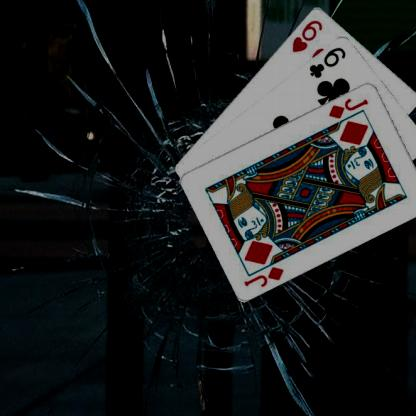6C: (306, 44, 348, 79)
6H: (289, 17, 324, 53)
JD: (326, 95, 370, 120), (242, 263, 286, 288)
